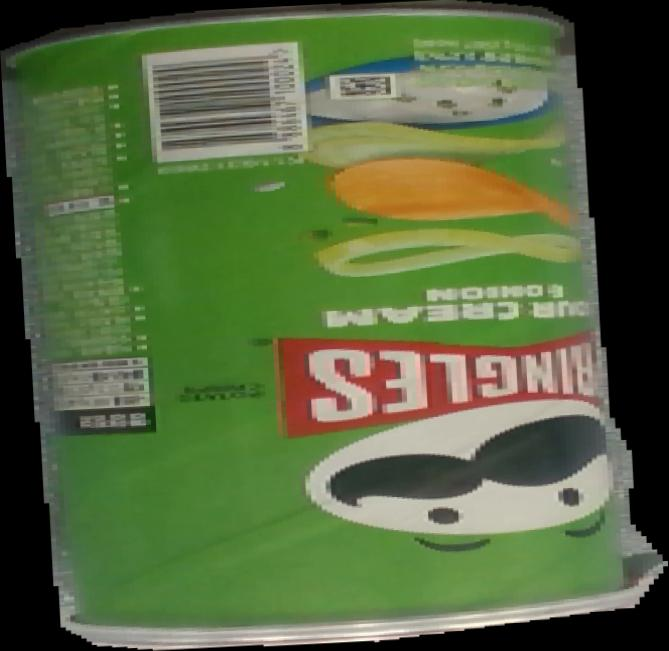pringles: (0, 1, 668, 650)
